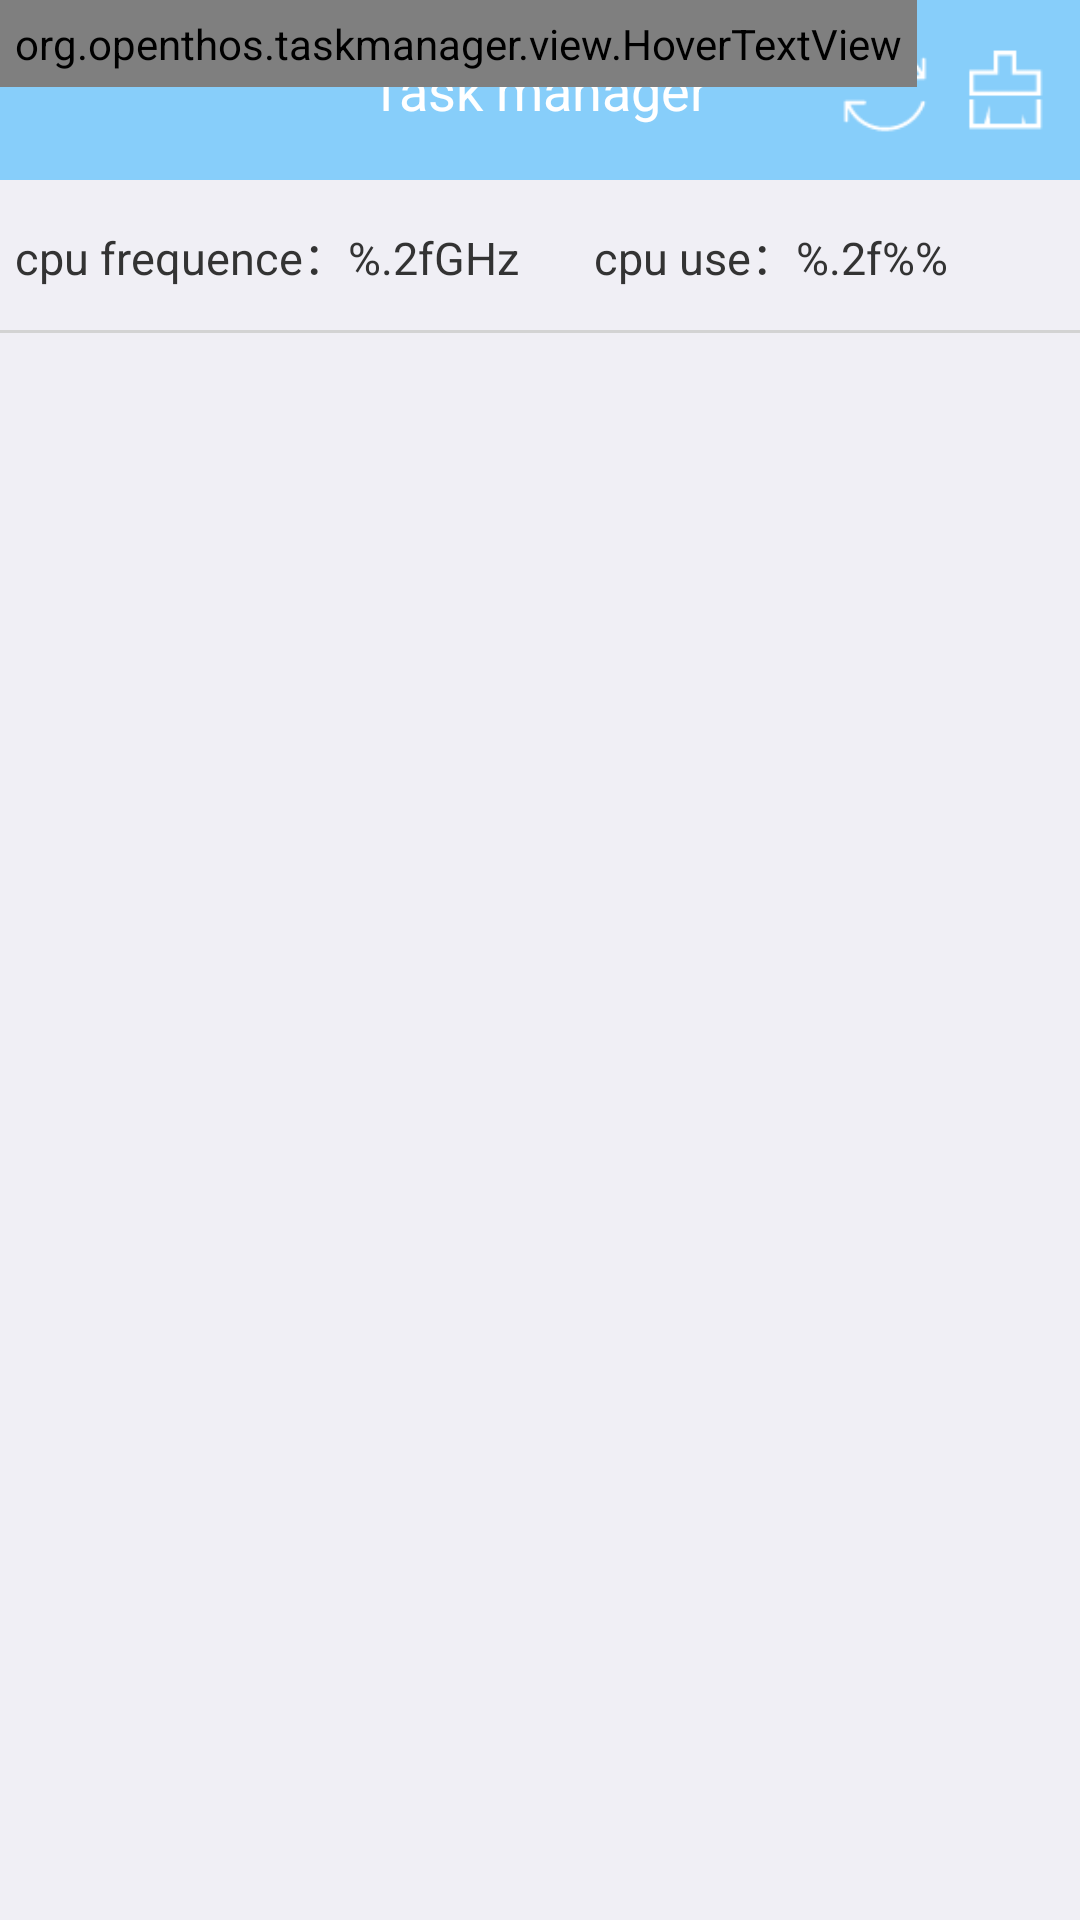

Icons on this 1080*1920 Android screen, each with the point to tap as (x,y):
clean: (1005,90)
refresh: (883,88)
